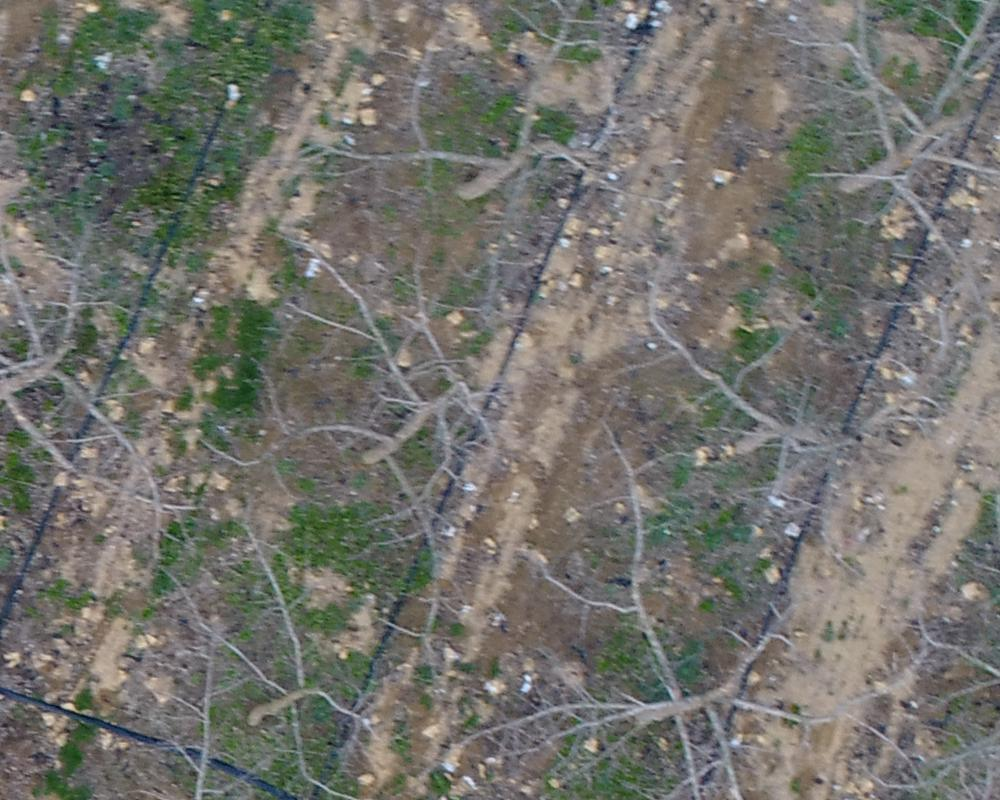apple: (452, 418, 870, 790), (190, 234, 534, 616), (601, 278, 964, 533), (291, 10, 688, 233), (10, 198, 213, 575), (164, 527, 413, 790), (781, 10, 990, 284)
